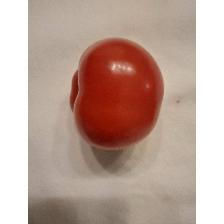Tomate: (67, 36, 167, 152)
